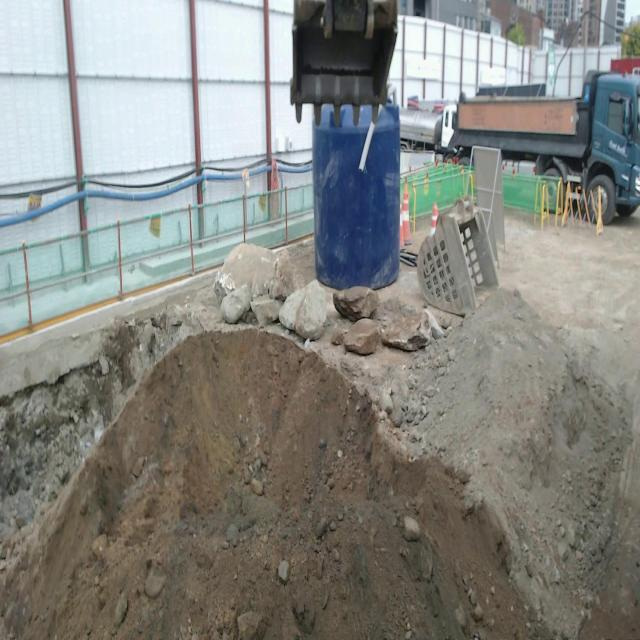stone: (215, 242, 306, 297), (279, 280, 327, 339), (375, 301, 431, 351), (333, 286, 379, 321), (343, 318, 380, 355), (221, 286, 251, 324), (251, 296, 283, 327)
white-sand: (0, 219, 640, 639)
